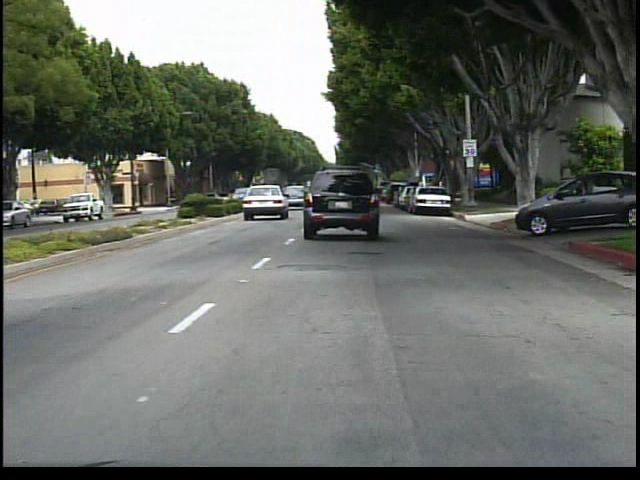person: (509, 169, 530, 213)
